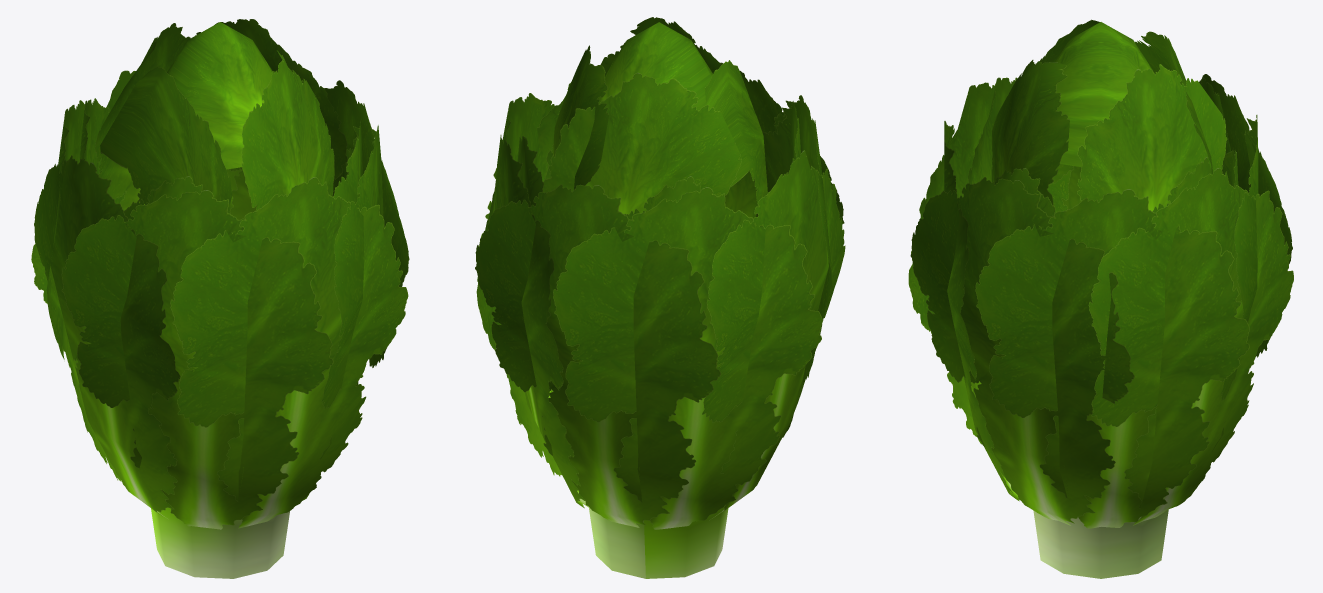
The model's file is lettuce.fbx.
The picture shows the model from 3 angles, left to right: view 1: azimuth 30°, elevation 25°; view 2: azimuth 150°, elevation 25°; view 3: azimuth 270°, elevation 25°; orthographic projection.
Visible parts, largest first — view 1: lettuce_msh; view 2: lettuce_msh; view 3: lettuce_msh.
Part boxes in pixels (<box>): lettuce_msh: <box>31,19,409,578</box>; lettuce_msh: <box>475,17,845,578</box>; lettuce_msh: <box>908,19,1293,578</box>.
Size of the model in its own units: 4.53 by 6.41 by 4.56.
